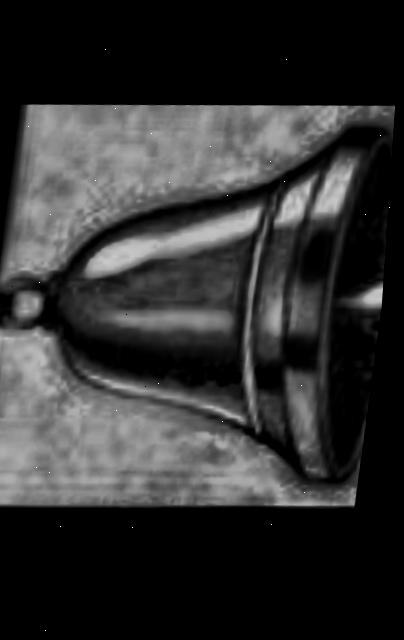La Campana: (0, 83, 399, 532)
